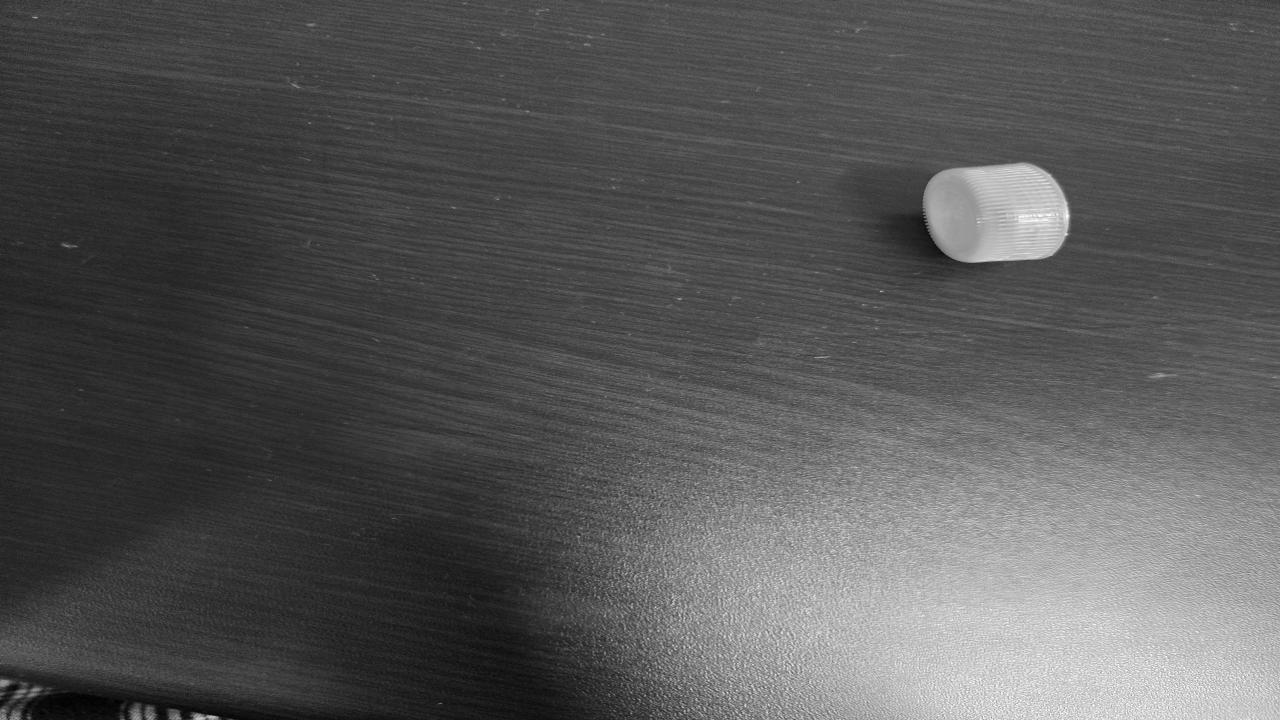bottle_cap: (907, 161, 1073, 265)
